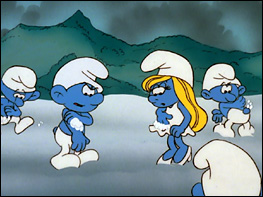smurf: (140, 49, 206, 164), (48, 56, 109, 169), (200, 63, 256, 137), (1, 64, 40, 134)
